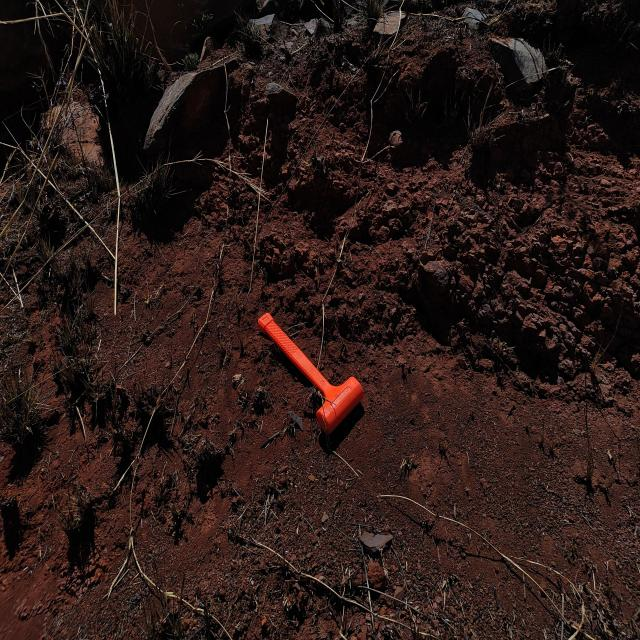Orange_hammer: (257, 310, 364, 436)
